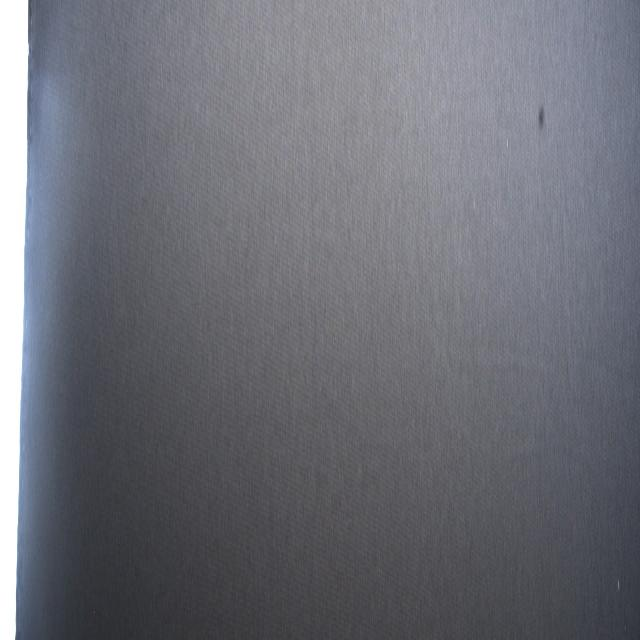crease: (468, 328, 574, 385), (148, 156, 185, 272)
whiteDefect: (616, 573, 621, 597)
